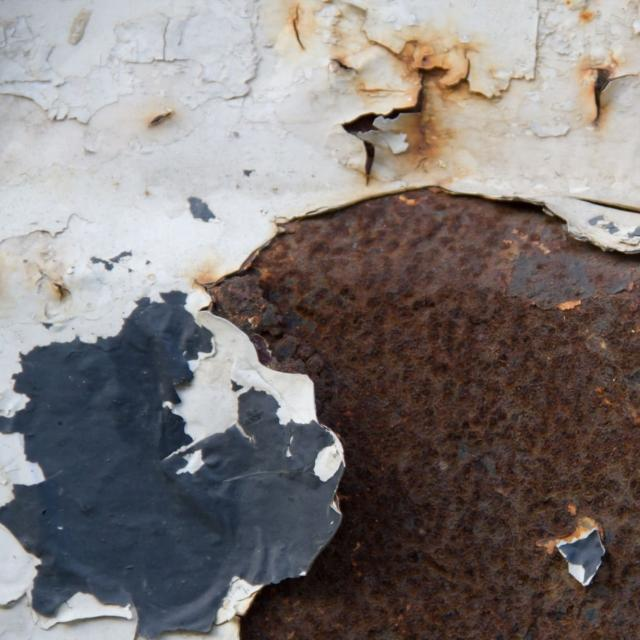Pitting Corrosion: (209, 190, 639, 639)
